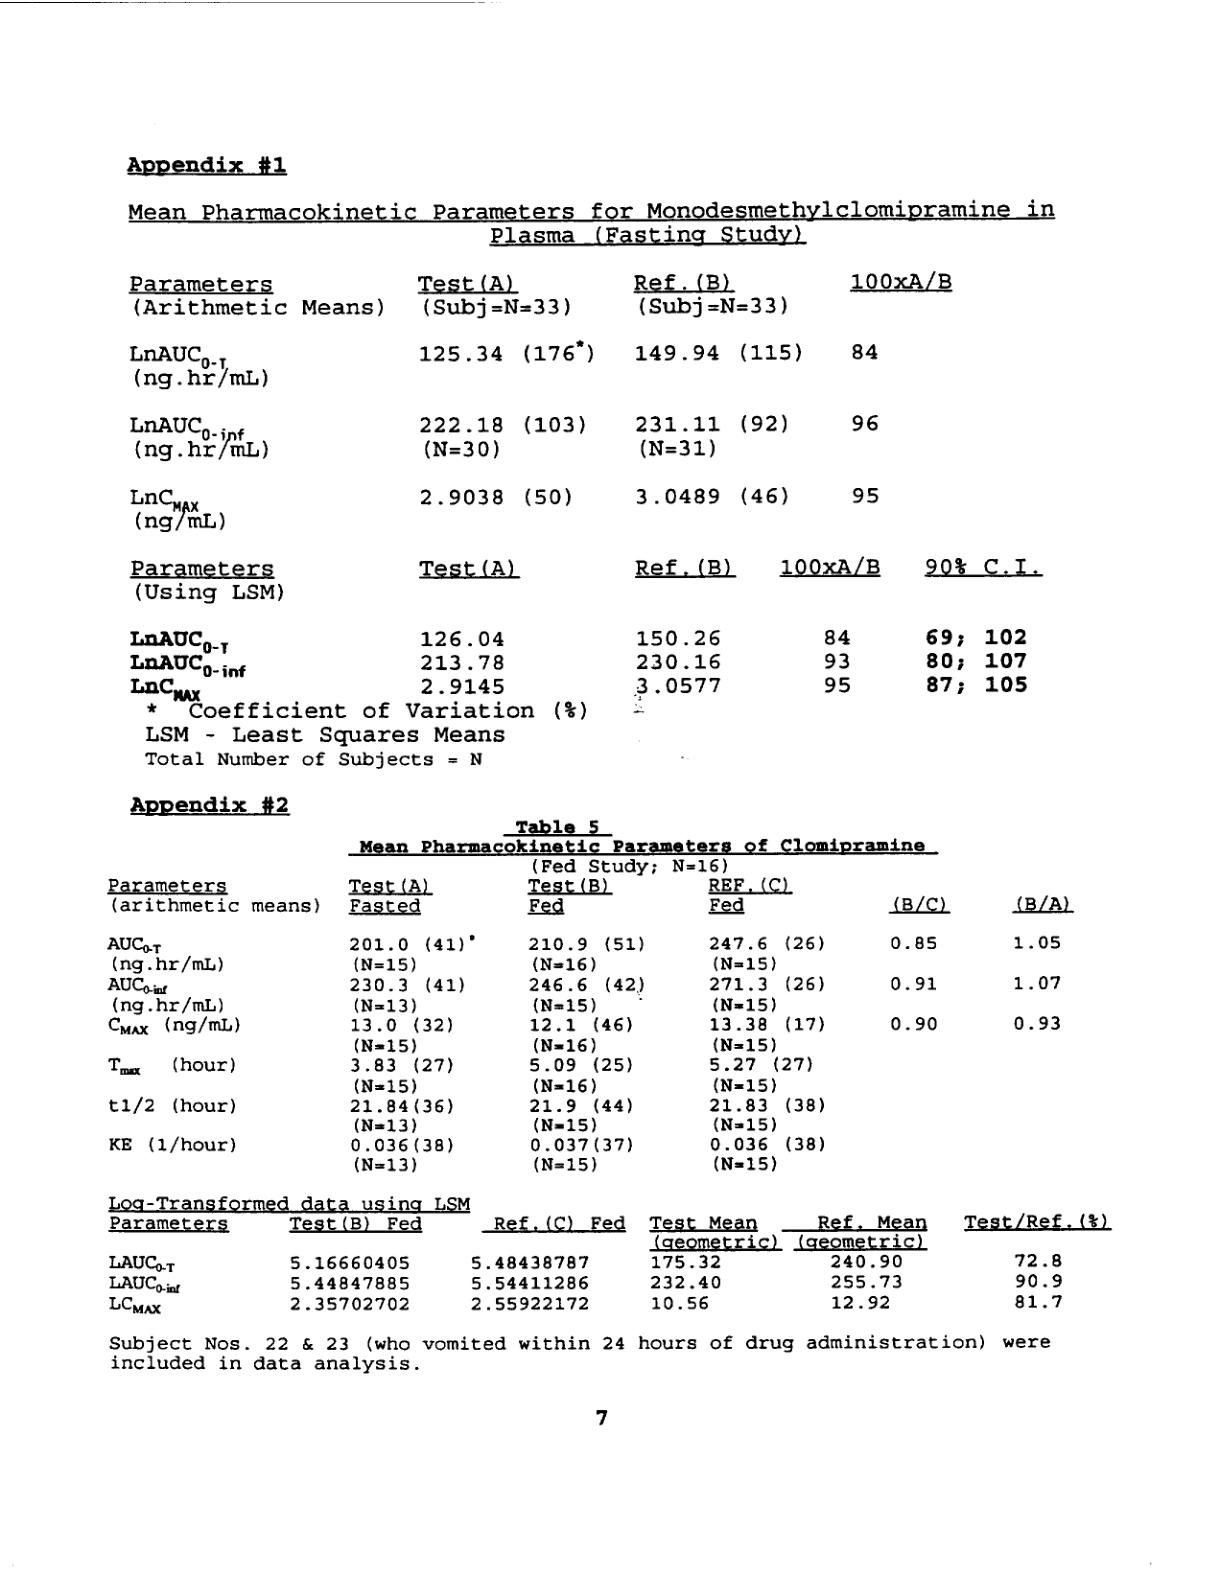nolines: (105, 874, 1074, 1173), (125, 272, 956, 537), (127, 558, 1043, 700), (109, 1215, 1115, 1314)
